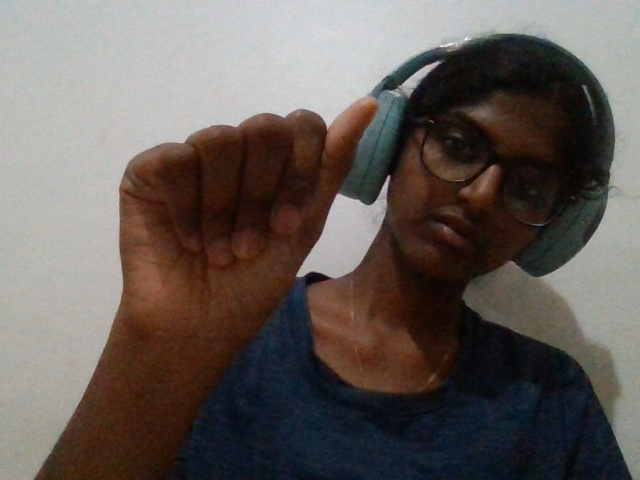A: (66, 85, 390, 407)
